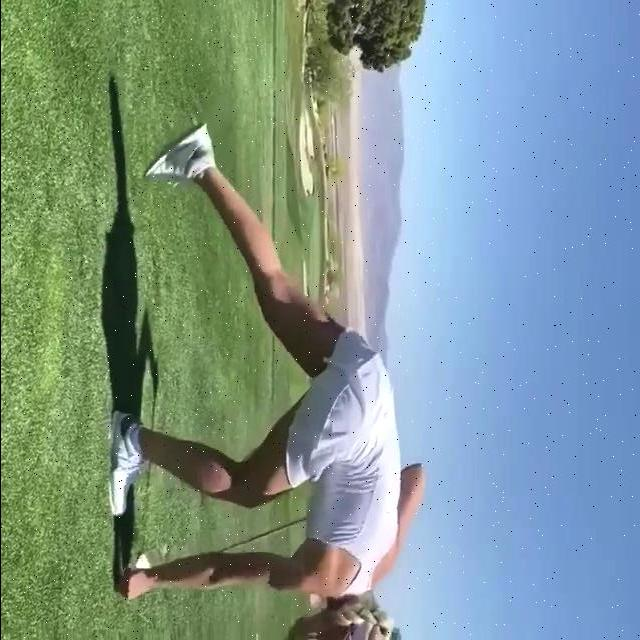golf club-handle: (130, 517, 309, 580)
golf club-head: (130, 539, 149, 580)
